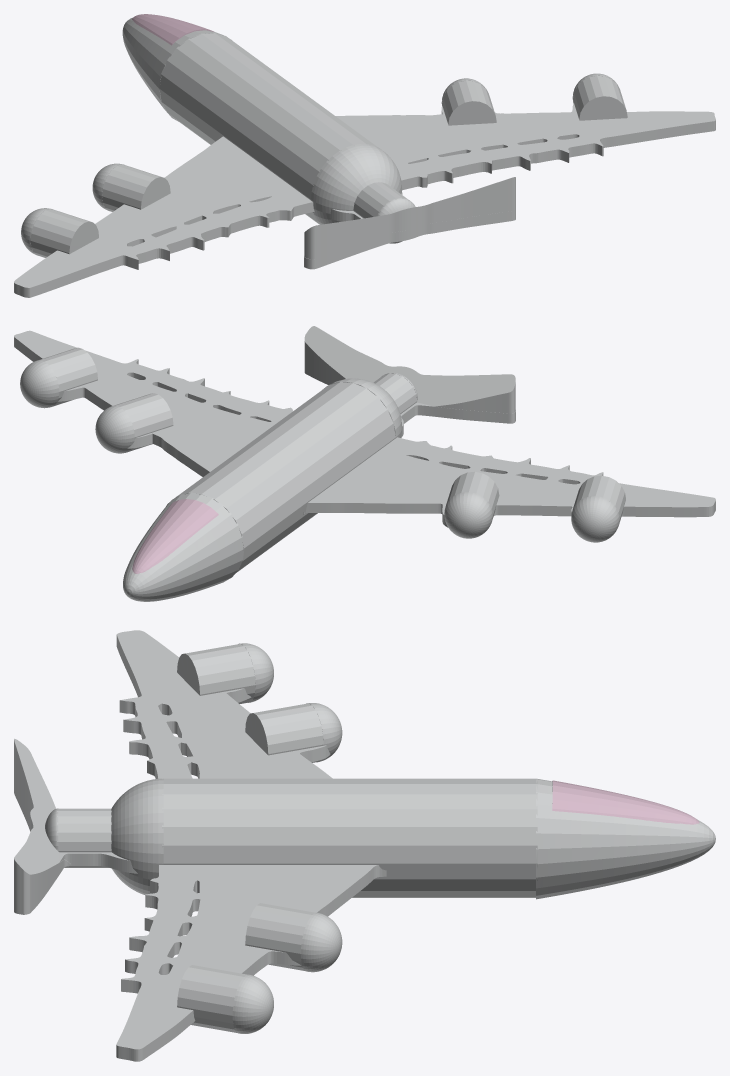
The model's file is wspolnolot.glb.
3 views of the same model, one above another, from view 1: azimuth 30°, elevation 25°; view 2: azimuth 150°, elevation 25°; view 3: azimuth 270°, elevation 25° (orthographic). The views are drawn at different scales.
Visible parts, largest first — view 1: Mesh_Mesh_head_geo.001_lambert2SG.001; view 2: Mesh_Mesh_head_geo.001_lambert2SG.001; view 3: Mesh_Mesh_head_geo.001_lambert2SG.001.
Part boxes in pixels (left/top/right/bottom): Mesh_Mesh_head_geo.001_lambert2SG.001: left=14, top=14, right=715, bottom=297; Mesh_Mesh_head_geo.001_lambert2SG.001: left=14, top=326, right=715, bottom=601; Mesh_Mesh_head_geo.001_lambert2SG.001: left=14, top=630, right=715, bottom=1061.
Size of the model in its own units: 66.07 by 8.1 by 46.75.
